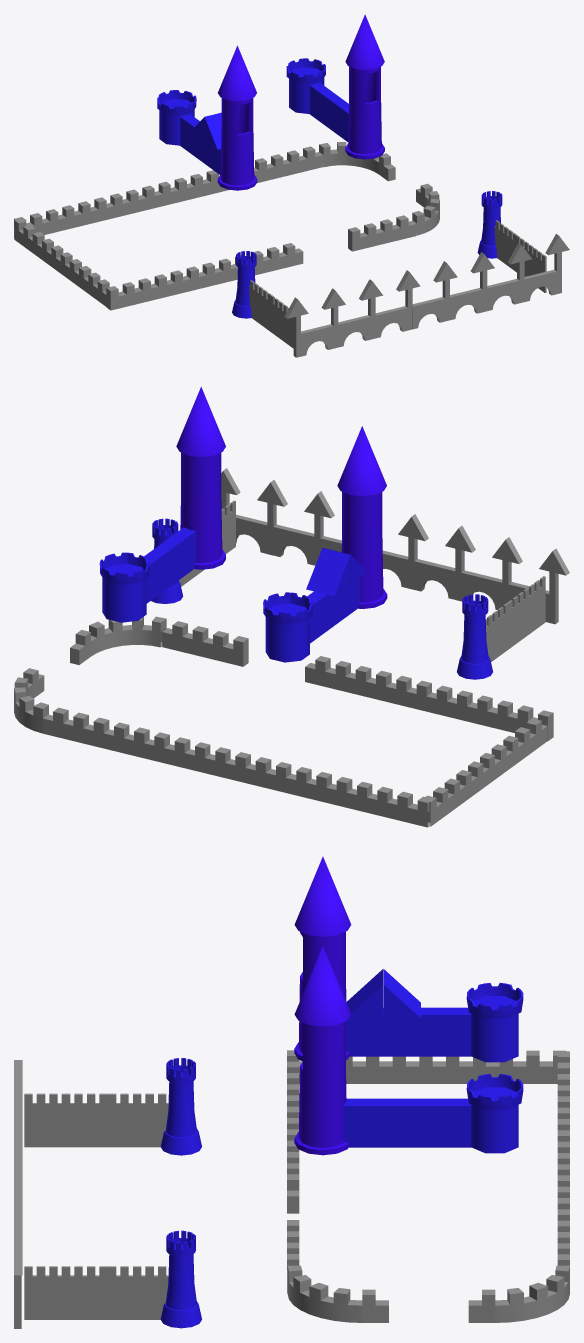
Rendered from MultiFenceFinal (1).fbx.
3 views of the same model, one above another, from view 1: azimuth 30°, elevation 25°; view 2: azimuth 150°, elevation 25°; view 3: azimuth 270°, elevation 25° (orthographic). The views are drawn at different scales.
Parts seen in each view (by area): view 1: 1232132132, 22, Box599, Object002, Object001; view 2: 1232132132, 22, Box599, Object002, Object001; view 3: 22, Box599, 1232132132, Object001, Object002.
Boxes of the visible parts, x1,y1,x2,y2 form: 1232132132: (14, 142, 439, 310); 22: (157, 14, 384, 190); Box599: (249, 220, 569, 357); Object002: (232, 251, 256, 318); Object001: (477, 191, 502, 258); 1232132132: (14, 616, 553, 827); 22: (99, 386, 387, 662); Box599: (179, 468, 569, 661); Object002: (457, 594, 492, 679); Object001: (151, 518, 183, 603); 22: (294, 856, 523, 1155); Box599: (14, 1060, 168, 1328); 1232132132: (287, 1050, 569, 1322); Object001: (160, 1230, 201, 1328); Object002: (160, 1058, 201, 1155).
Bounding box in the file's own units: 336 × 196 × 308.
